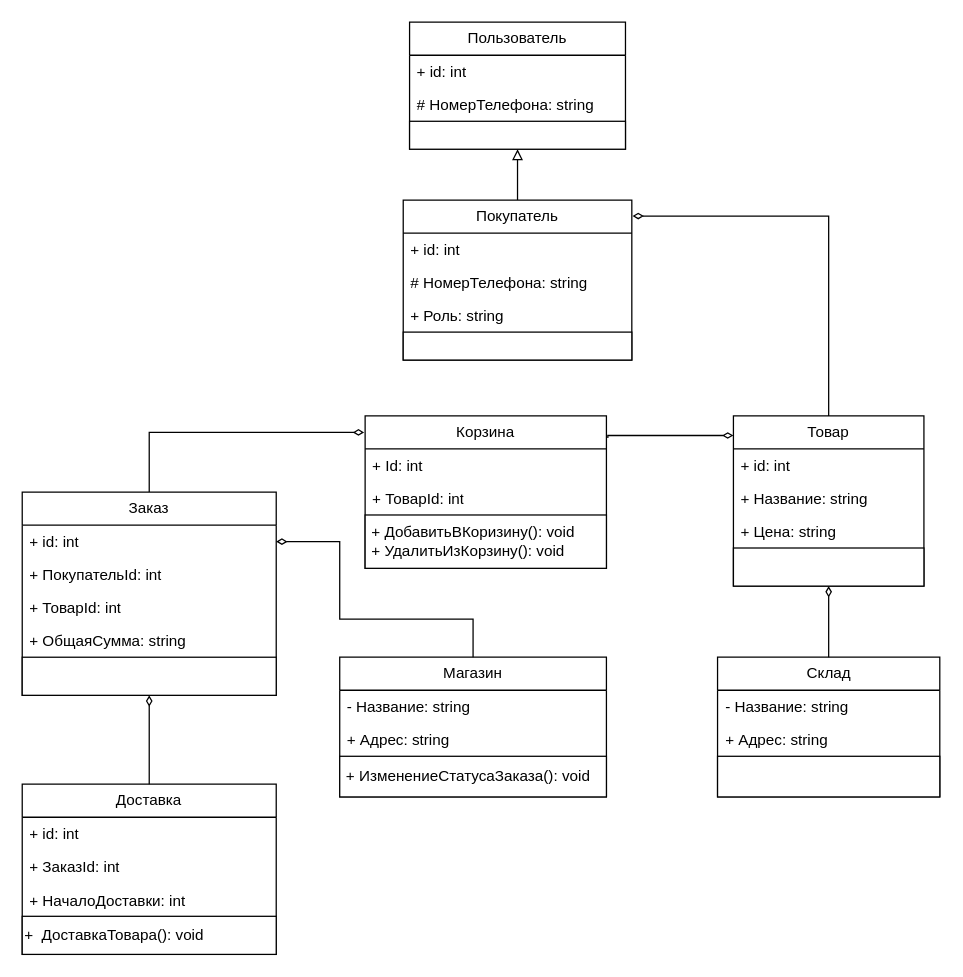
Some shapes in this 963 by 977 pixel diagram are drawn without their labels. The centre of each missing label's shape, as x and y in pixels:
+ Выбор товаров(): bool: point (517, 345)
+ ДоставкаТовара(): bool: point (828, 776)
+ Изменение суммы заказа(): void: point (148, 675)
+ ИзменениеЦены(): void: point (828, 566)
- Регистрация(): bool: point (516, 134)
